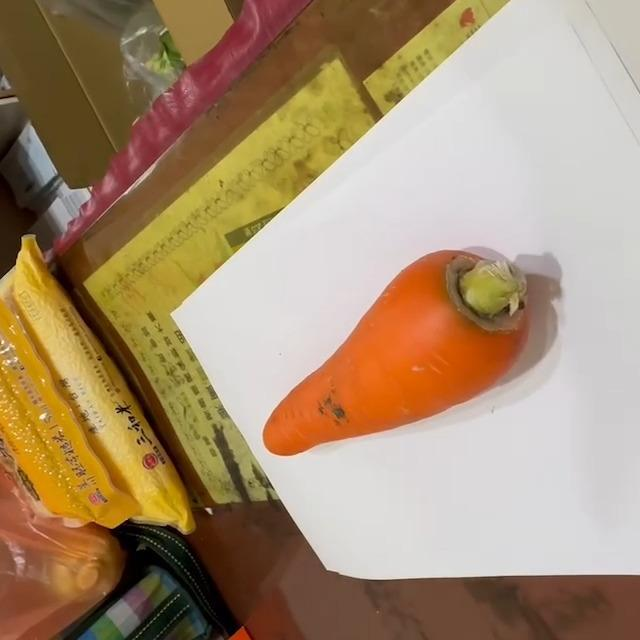carrot: (255, 251, 538, 458)
